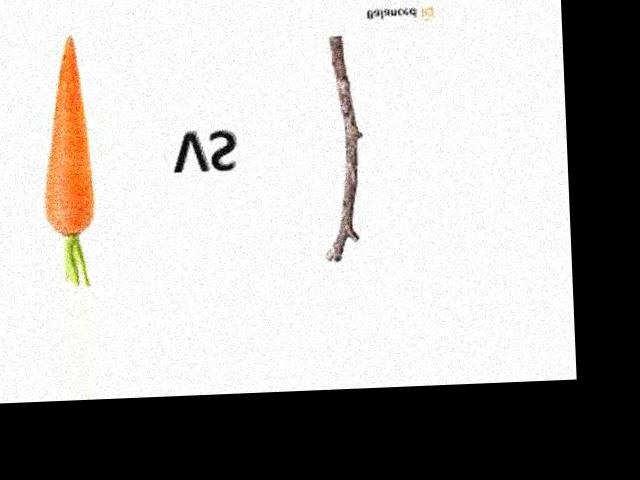carrot: (35, 27, 105, 247)
